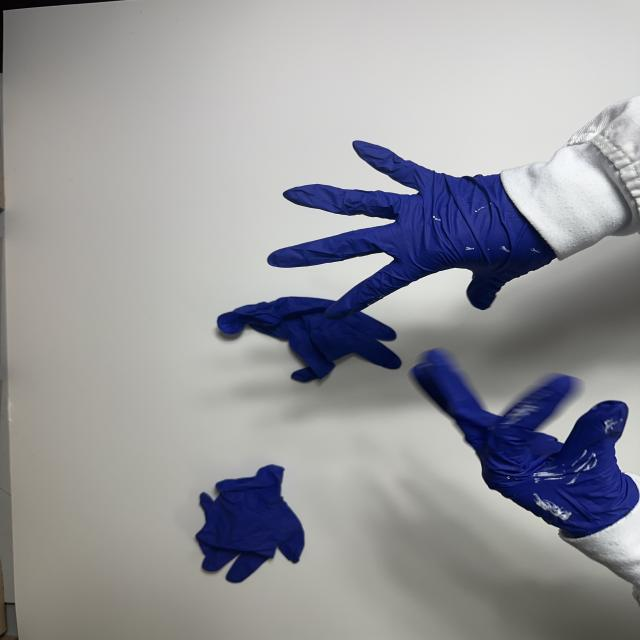gloves_contaminated: (268, 141, 556, 320), (413, 349, 639, 538)
